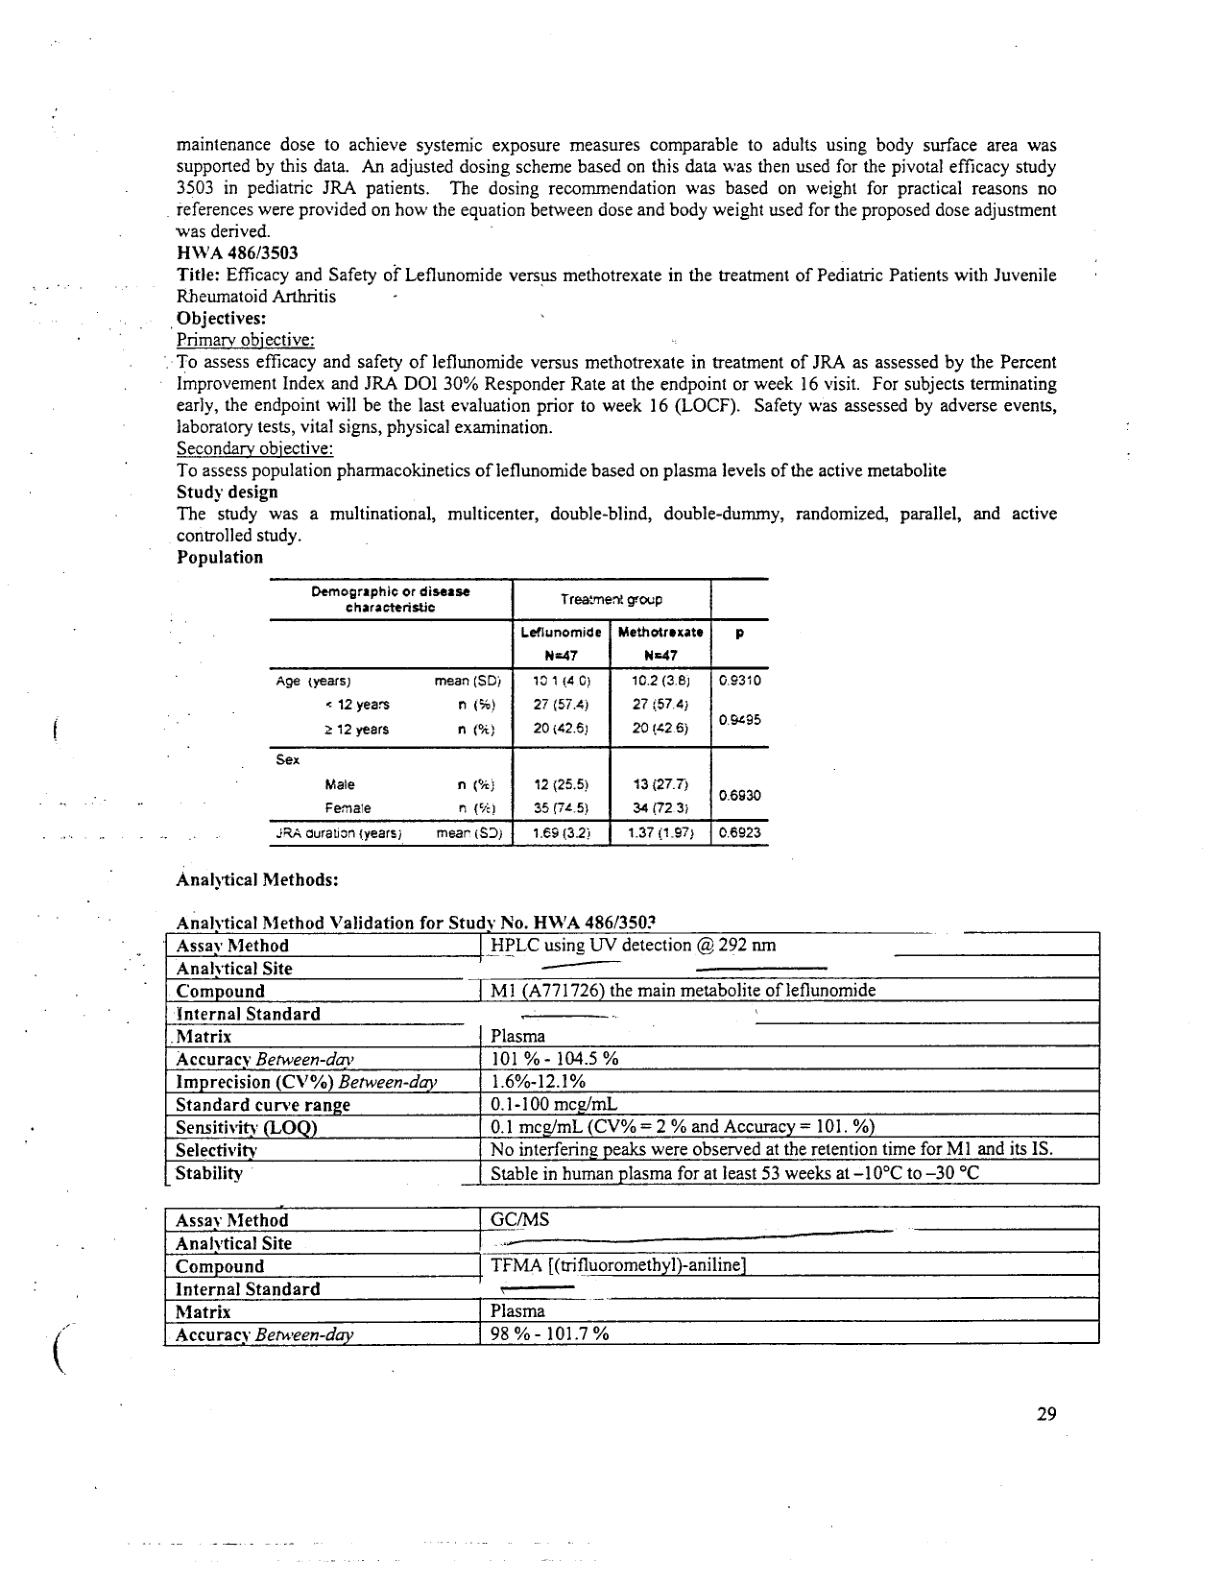full_lined: (165, 931, 1102, 1346)
partial_lined_merged_cells: (267, 577, 771, 849)
